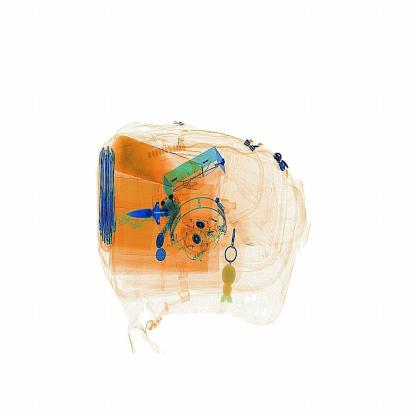gun: (124, 194, 187, 236)
